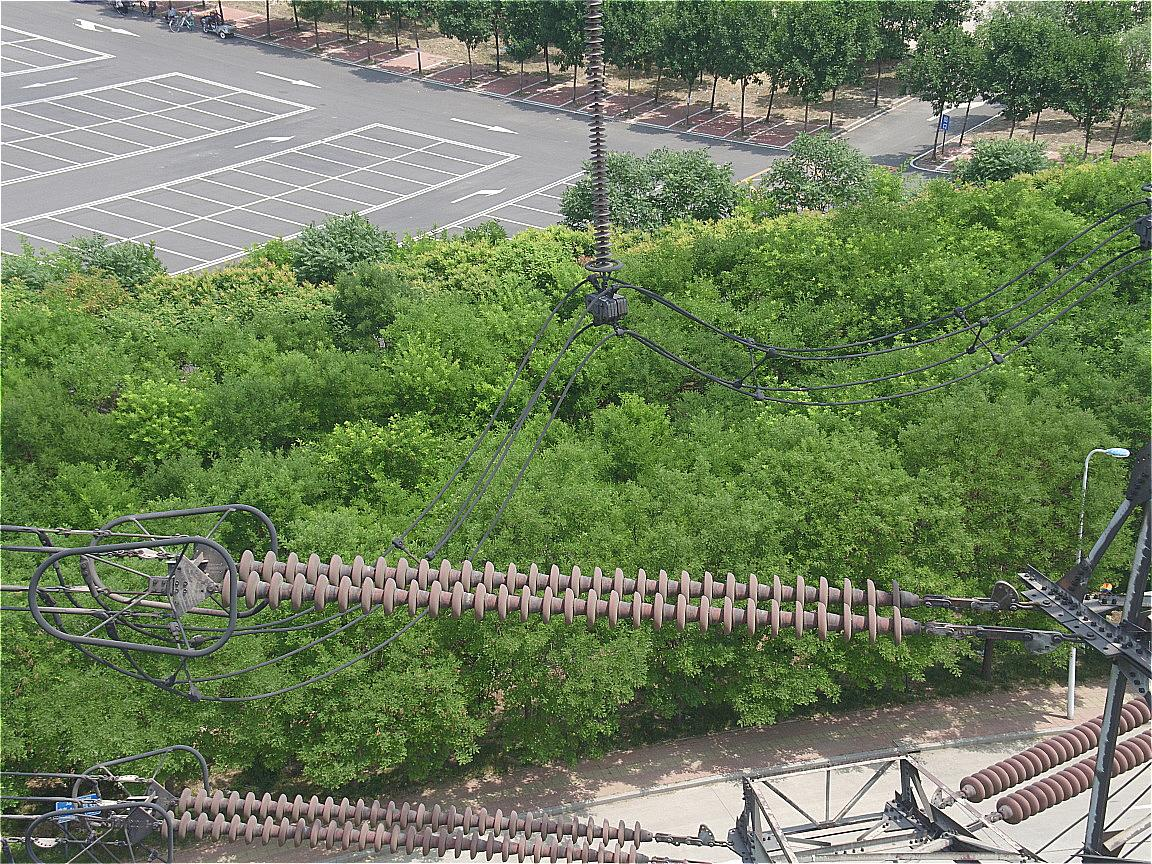insultor1: (229, 536, 936, 659), (159, 773, 659, 864)
